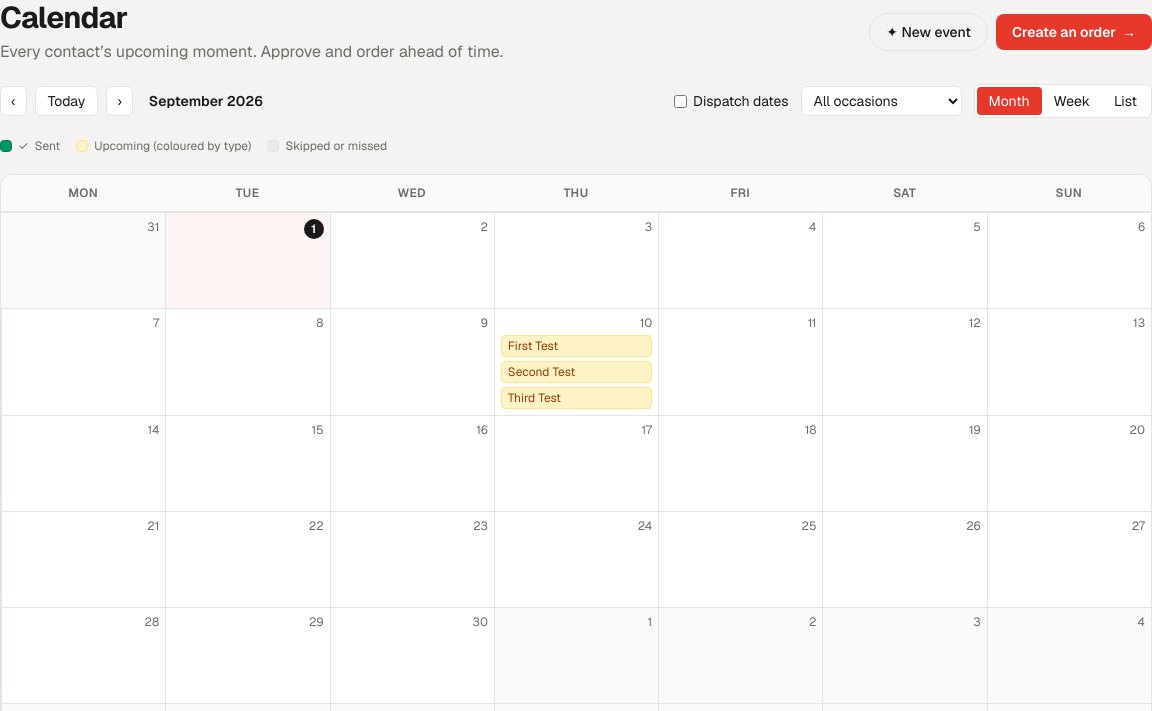
CalendarClient list view selection › ticks several at once and carries them all into one order
The width and height of the screenshot is (1152, 711).
What coordinates should you click on to do the following:
click the button "list"
I would click on:
 (1126, 101)
Its box is [1102,87,1149,115].
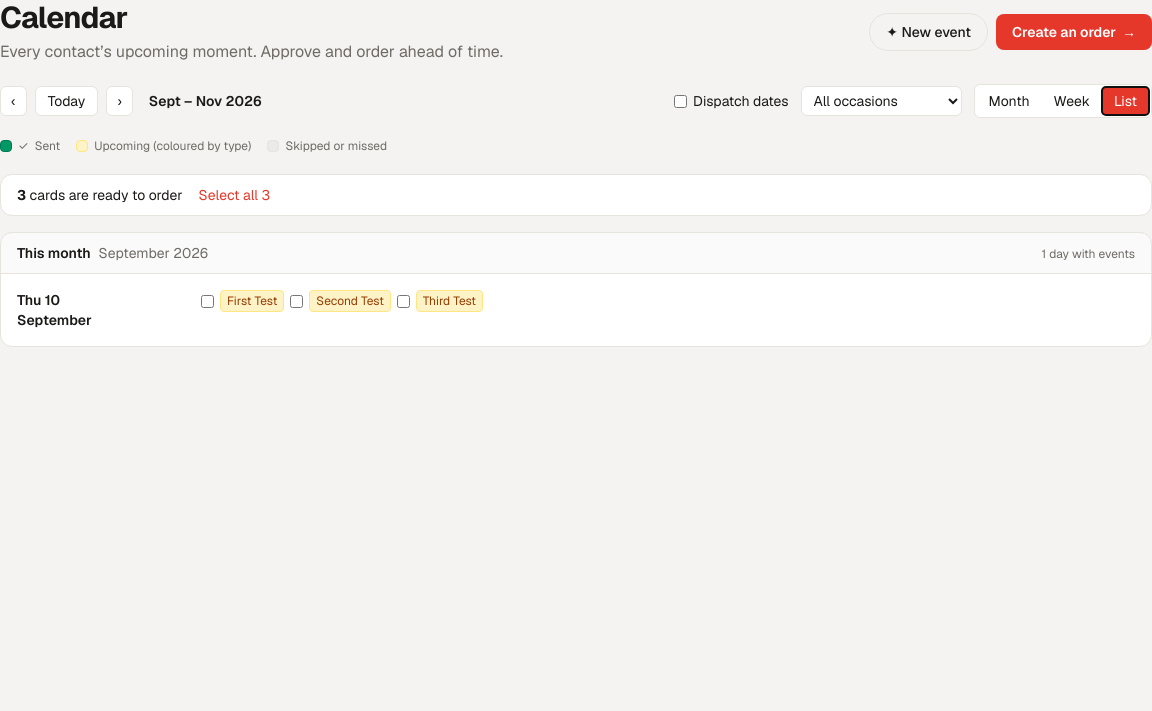
Now the number of checkboxes titled "Select to include in an order" is 3
What coordinates should you click on to do the following:
click the checkbox titled "Select to include in an order"
I would click on:
 (208, 301)
Its box is [201,294,214,308].
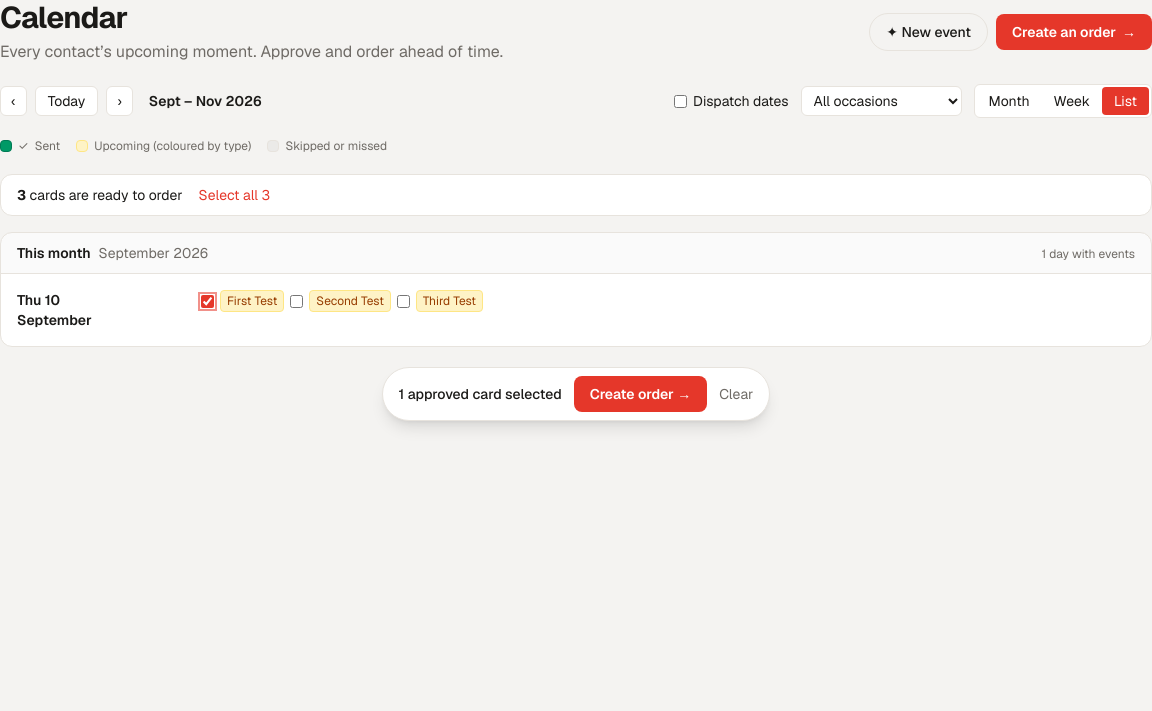
What coordinates should you click on to do the following:
click the checkbox titled "Select to include in an order"
I would click on:
 (297, 301)
Its box is [290,294,303,308].
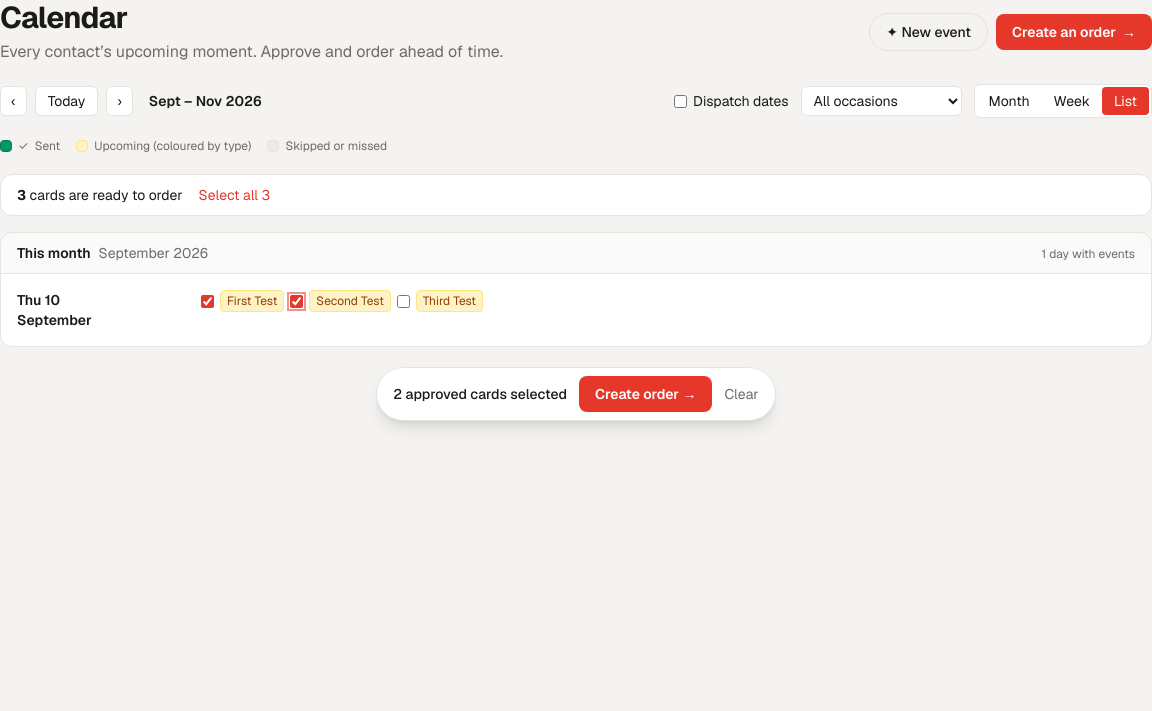
What coordinates should you click on to do the following:
click the checkbox titled "Select to include in an order"
I would click on:
 (403, 301)
Its box is [397,294,410,308].
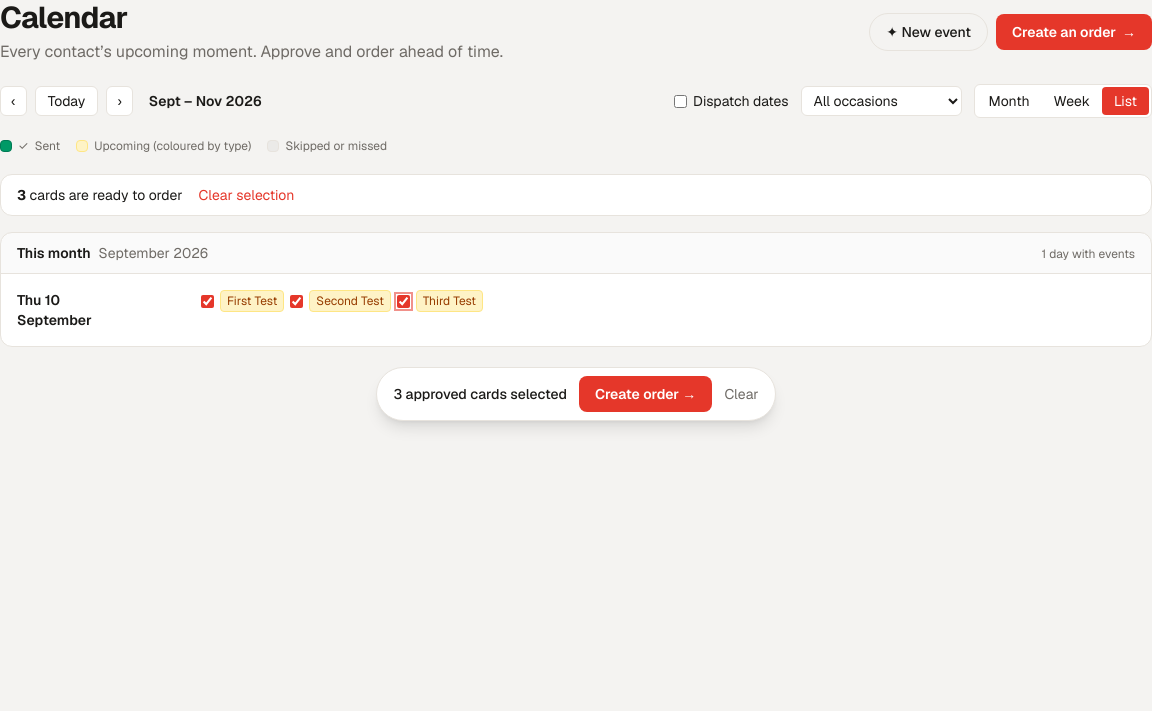
Now the text "3 approved cards selected" is shown, box [393,384,567,404]
